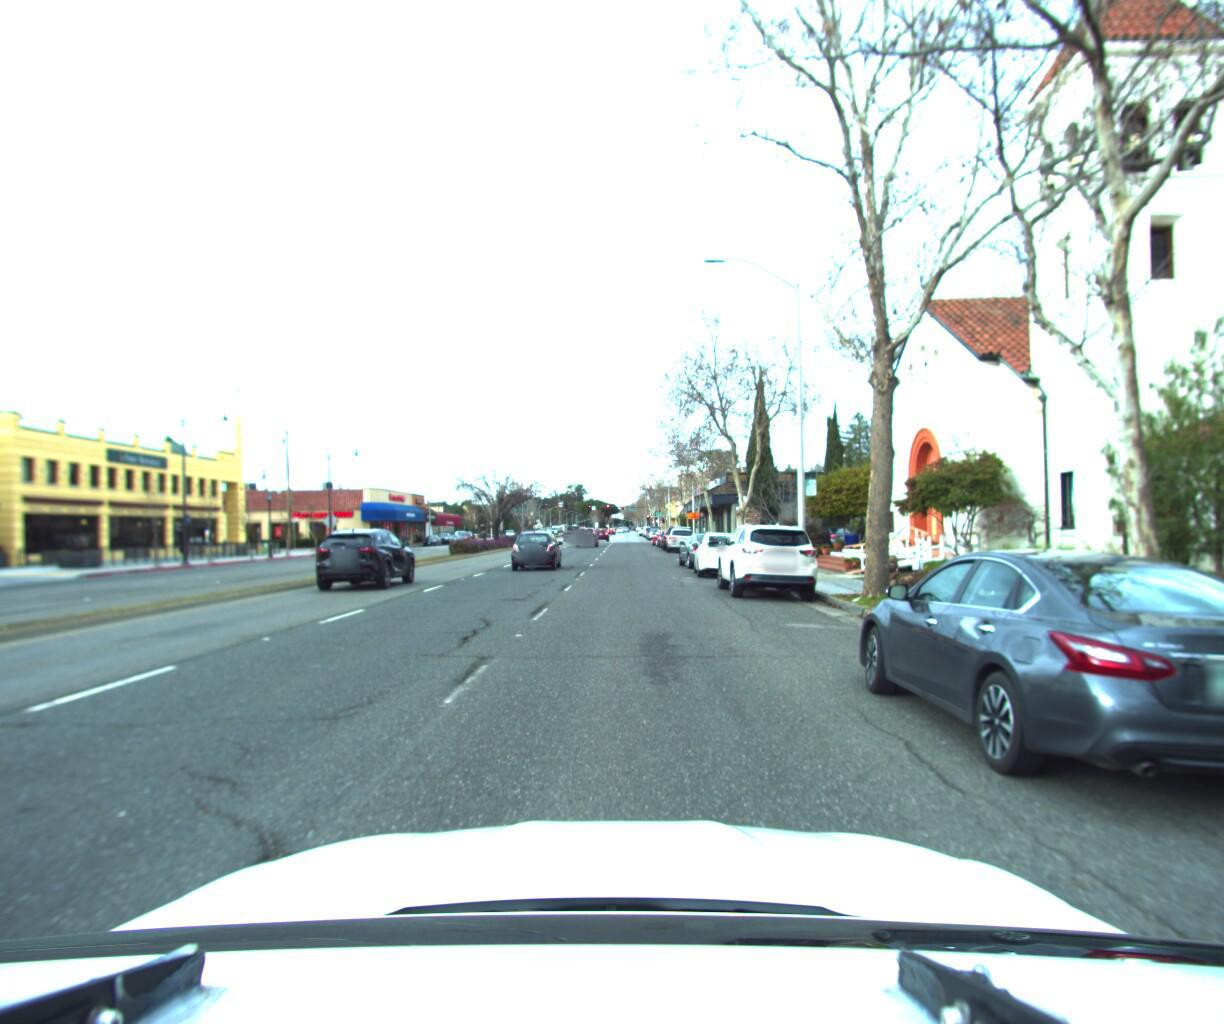car: (842, 531, 1224, 848), (714, 515, 827, 600), (308, 526, 424, 589), (693, 526, 760, 577), (509, 528, 567, 573), (676, 526, 739, 566), (808, 519, 859, 545), (664, 521, 696, 549), (572, 522, 597, 543)
